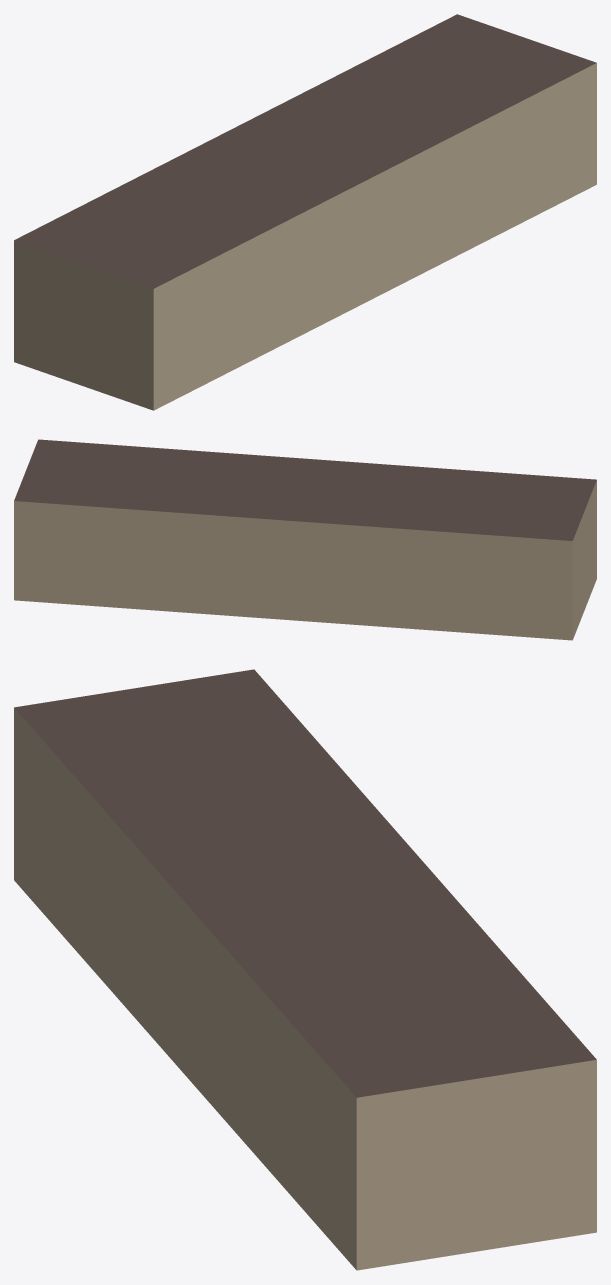
3 renders of one model, top to bottom at view 1: azimuth 30°, elevation 25°; view 2: azimuth 150°, elevation 25°; view 3: azimuth 270°, elevation 25°, orthographic. The views are drawn at different scales.
Parts seen in each view (by area): view 1: HP-w372180477; view 2: HP-w372180477; view 3: HP-w372180477.
Boxes of the visible parts, bbox=[...] form: HP-w372180477: bbox=[14, 14, 596, 410]; HP-w372180477: bbox=[14, 439, 596, 640]; HP-w372180477: bbox=[14, 669, 596, 1270].
Size of the model in its own units: 47.85 by 9 by 27.52.
